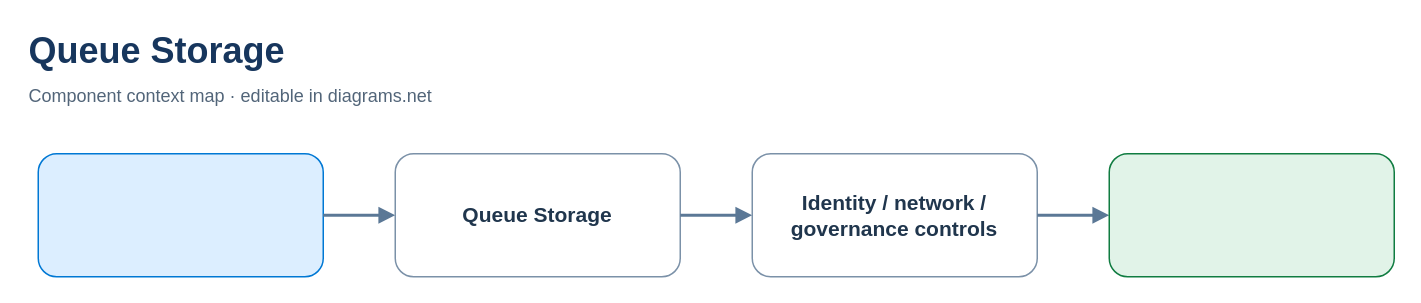
The diagram is 1421 pixels wide and 303 high, and some of its shapes have lost their labels. The shapes that lost their labels are listed below. From the top down, each one's box as (x1, y1, x2, y2) in pixels, then its label:
(37, 152, 323, 277): G · Storage & Enterprise File Services
(1108, 152, 1394, 277): Monitoring / resilience / operations
